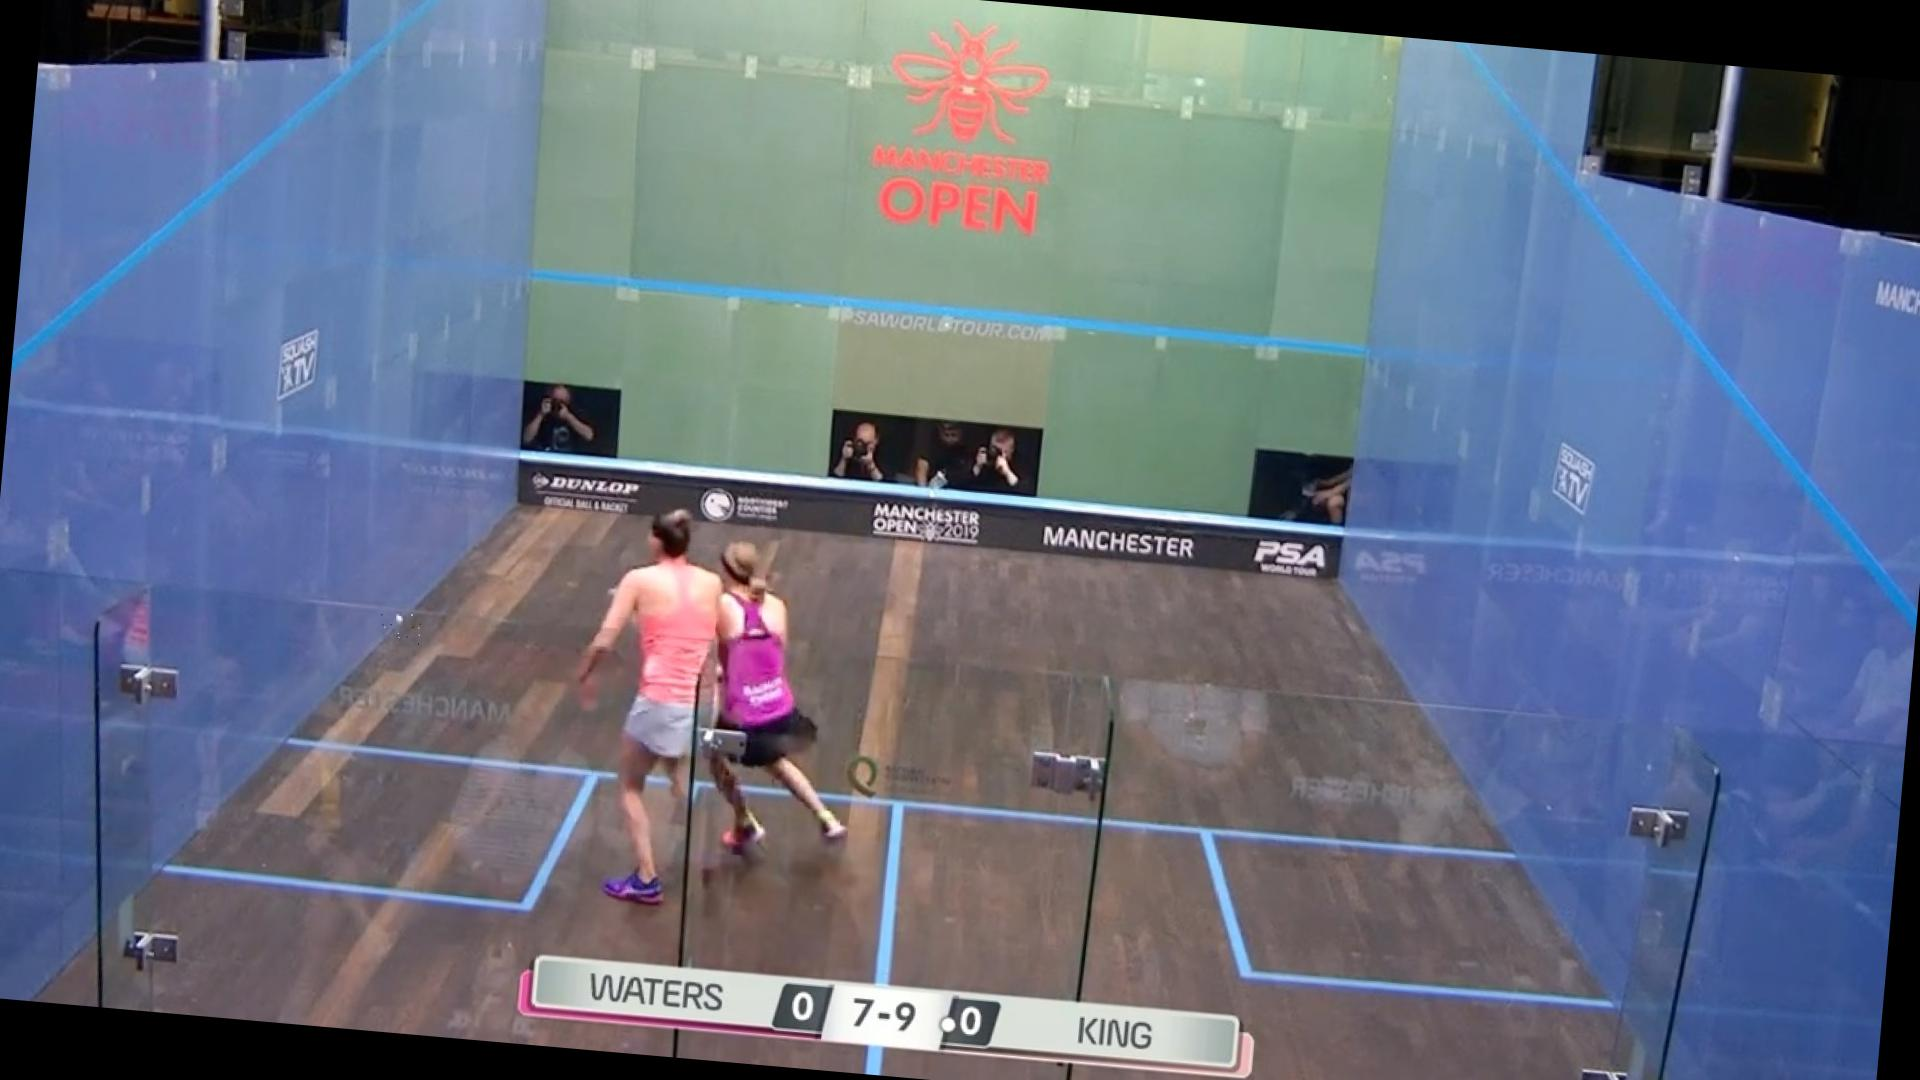Squash-Ball: (372, 600, 425, 646)
